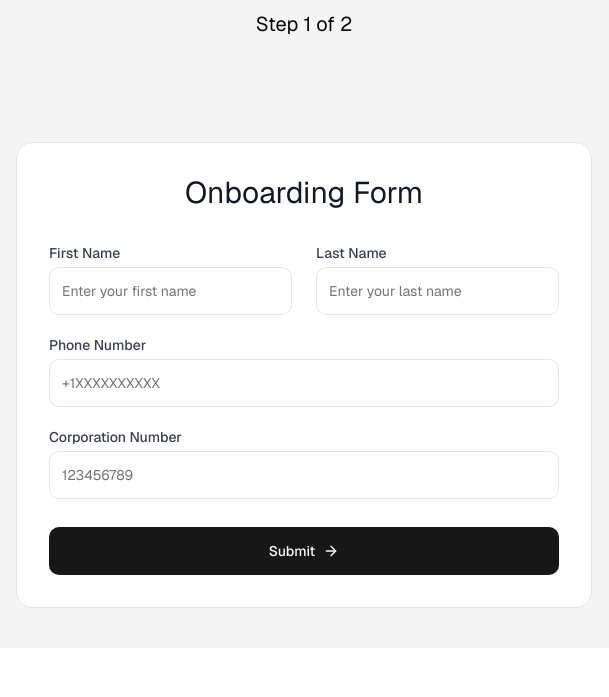
Test case: OnboardingForm - Essential Tests › Essential Form Validation › should validate required fields on submission
Click the button "Submit" at {"x": 304, "y": 551}, box [49,527,559,575]
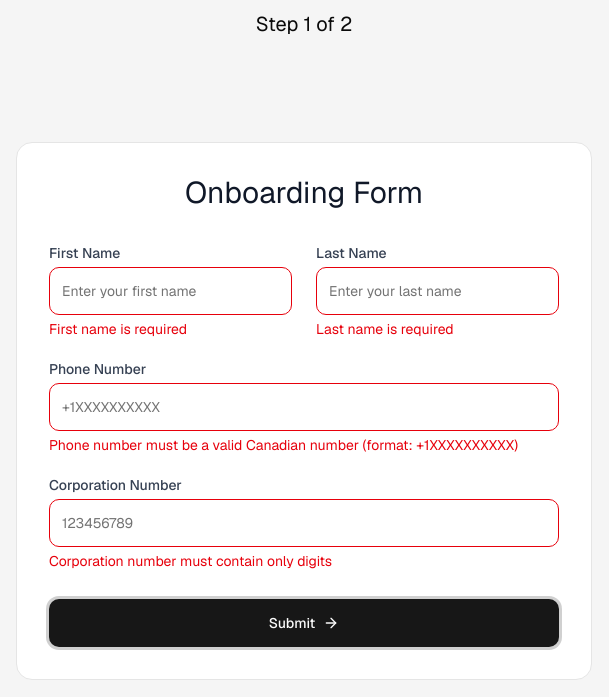
Check: the text "First name is required" is shown, box [49,320,187,338]
Check: the text "Last name is required" is shown, box [316,320,454,338]
Check: the text "Phone number must be a valid Canadian number" is shown, box [49,436,518,454]
